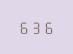six: (18, 20, 29, 34), (43, 20, 54, 34)
three: (31, 20, 42, 34)
